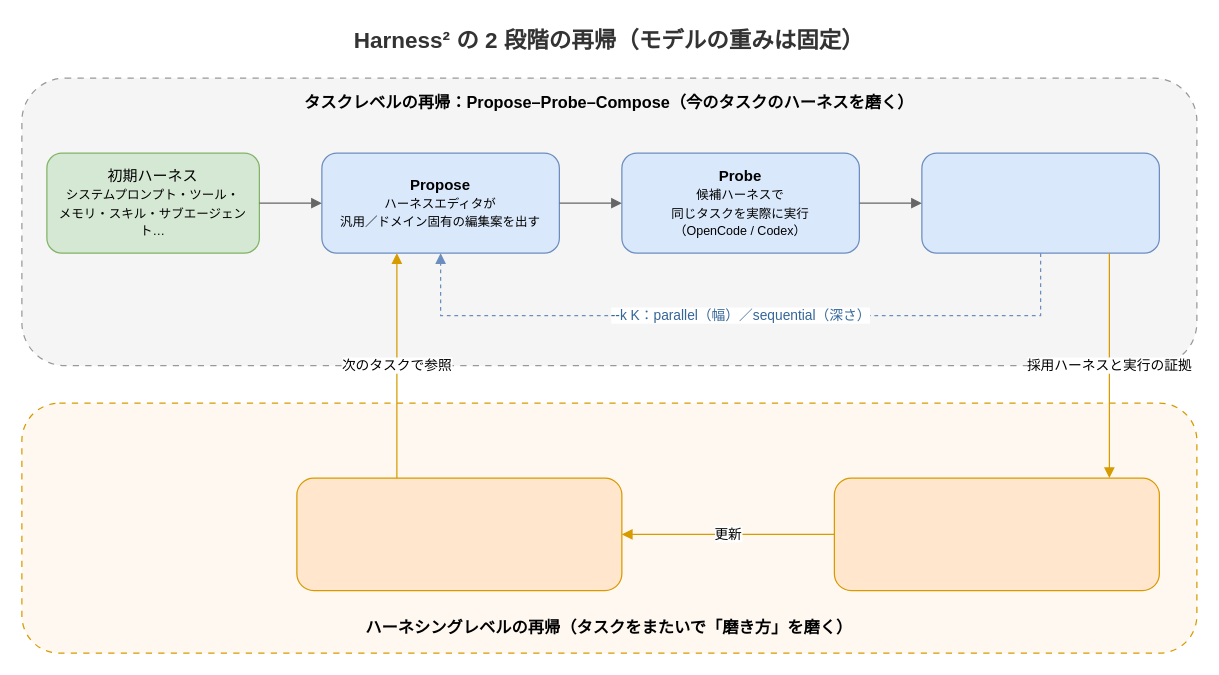
Image size: 1219x675. Some labels were removed from this diagram. Each missing label, with the centre of its shape:
Compose 実行の挙動の差から 改良版ハーネスを合成 （正解ラベル不要）: the point at 1040,202
改善ハーネス（永続） 採用されたハーネス＋教訓を蓄積。 次のタスクの編集案づくりを導く: the point at 459,534
経験リフレクター 今回のステップを振り返り、 証拠に裏付けられた教訓を抽出: the point at 996,534
